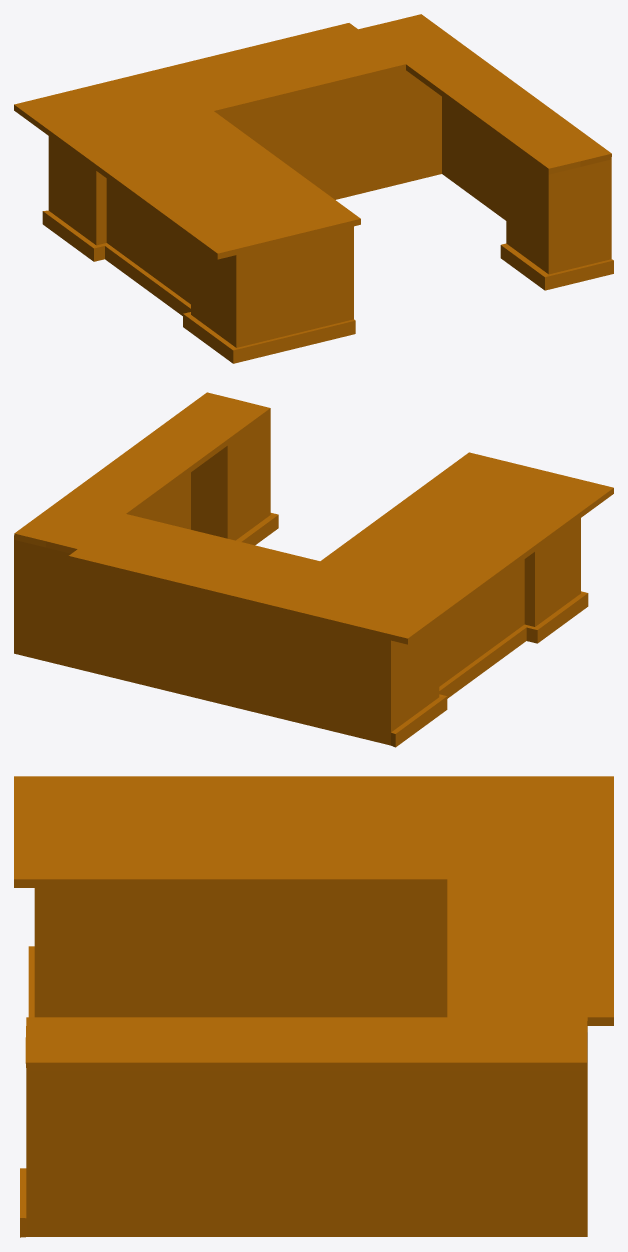
Rendered from boss desk.glb.
The picture shows the model from 3 angles, top to bottom: view 1: azimuth 30°, elevation 25°; view 2: azimuth 150°, elevation 25°; view 3: azimuth 270°, elevation 25°; orthographic projection. The views are drawn at different scales.
Parts seen in each view (by area): view 1: Boss Desk; view 2: Boss Desk; view 3: Boss Desk.
Part boxes in pixels (bbox=[...]): Boss Desk: bbox=[14, 14, 613, 363]; Boss Desk: bbox=[14, 392, 613, 747]; Boss Desk: bbox=[14, 776, 613, 1237].
Size of the model in its own units: 8.79 by 2.51 by 7.79.
